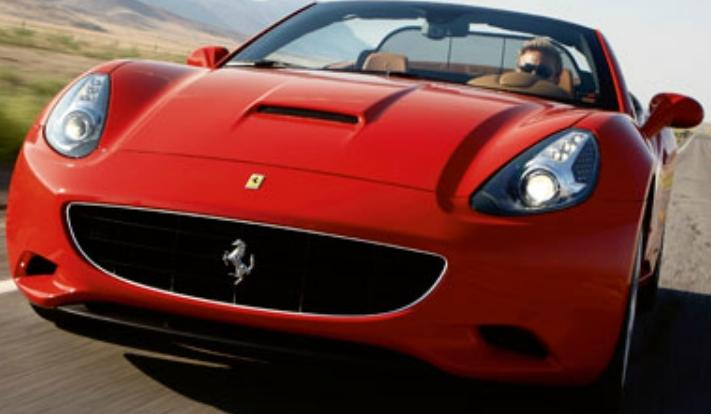front_view: (35, 70, 601, 337)
headlight: (479, 114, 603, 241)
